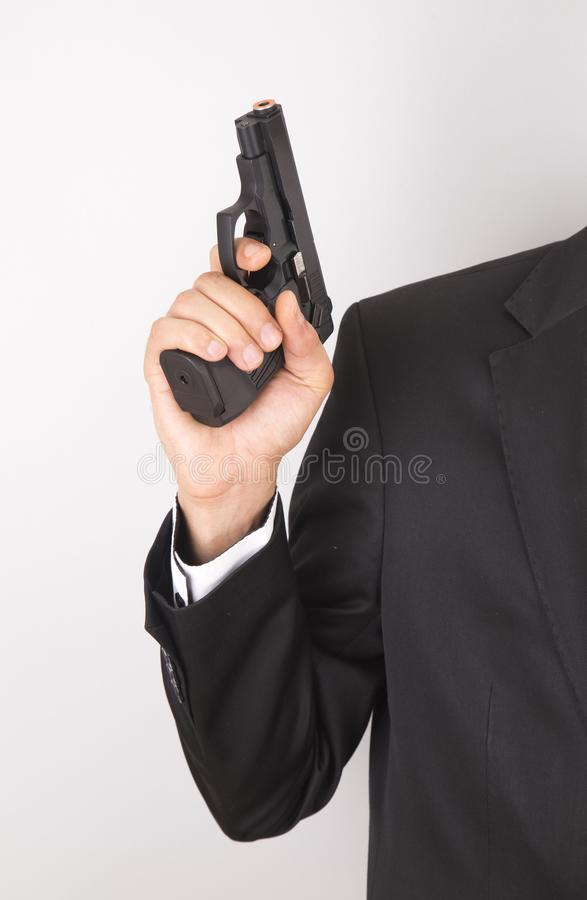weapon: (153, 90, 338, 431)
